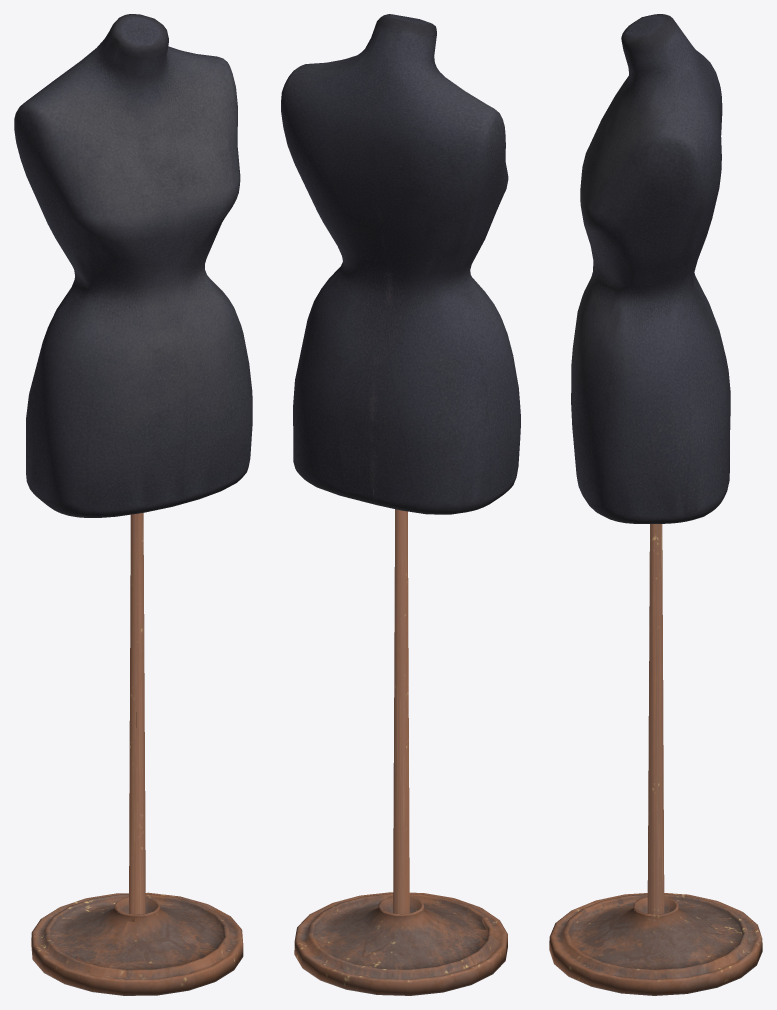
File: dress_form.glb
3 renders of one model, left to right at view 1: azimuth 30°, elevation 25°; view 2: azimuth 150°, elevation 25°; view 3: azimuth 270°, elevation 25°, orthographic.
Visible parts, largest first — view 1: Avatar_Man2_0; view 2: Avatar_Man2_0; view 3: Avatar_Man2_0.
Boxes of the visible parts, bbox=[...] form: Avatar_Man2_0: bbox=[14, 14, 252, 995]; Avatar_Man2_0: bbox=[281, 14, 520, 995]; Avatar_Man2_0: bbox=[549, 14, 762, 995].
Bounding box in the file's own units: 0.3209 × 1.39 × 0.2887.
1 material, 1 textured.
